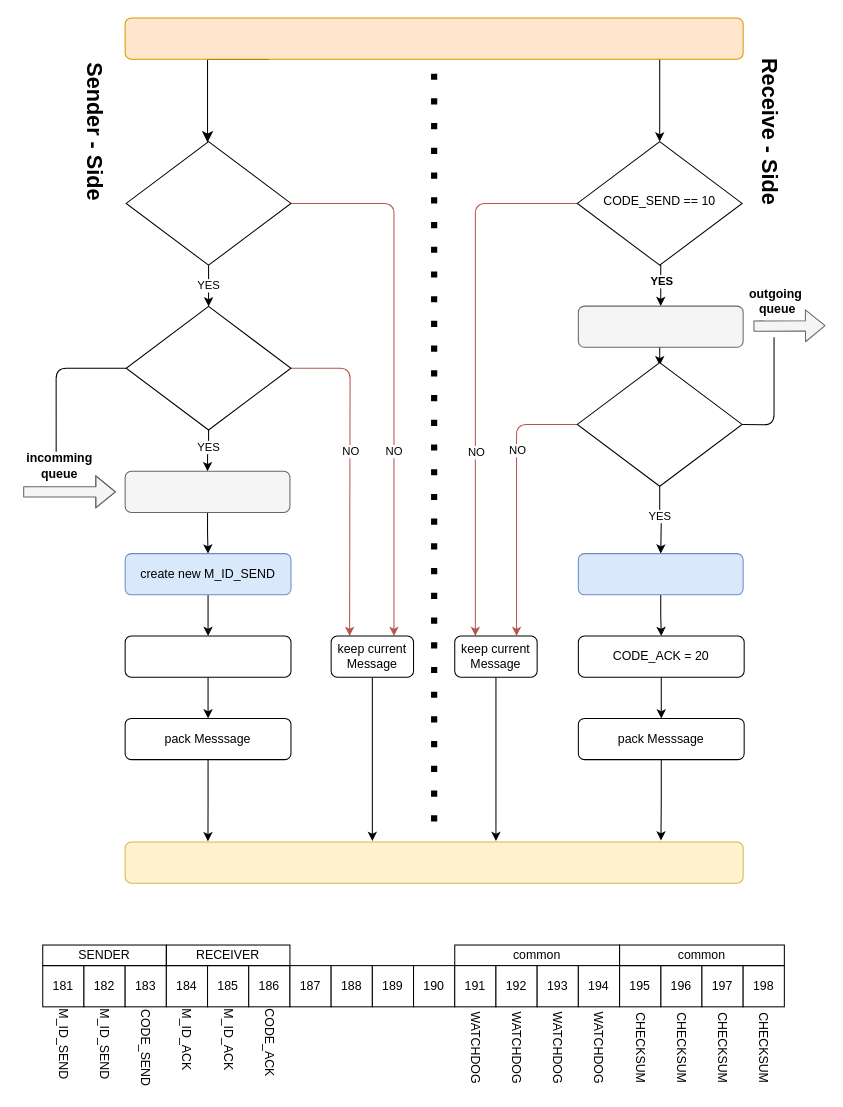
Image size: 843x1107. Some labels were removed from this diagram. The shapes that lost their labels are listed below. From the top down, each one's centre as x and y in pixels, then its label:
point (433, 38): RECEIVE MESSAGE
point (208, 203): M_ID_ACK == M_ID_SEND
point (660, 326): Enqueue NEW Message
point (208, 367): new Message in incoming QUEUE?
point (659, 424): Successfull Enqueued?
point (207, 491): Deuque new Message from the incoming QUEUE
point (660, 574): MID_ID_ACK = M_ID_SEND
point (207, 656): CODE_SEND = 10
point (433, 862): SEND MESSAGE
